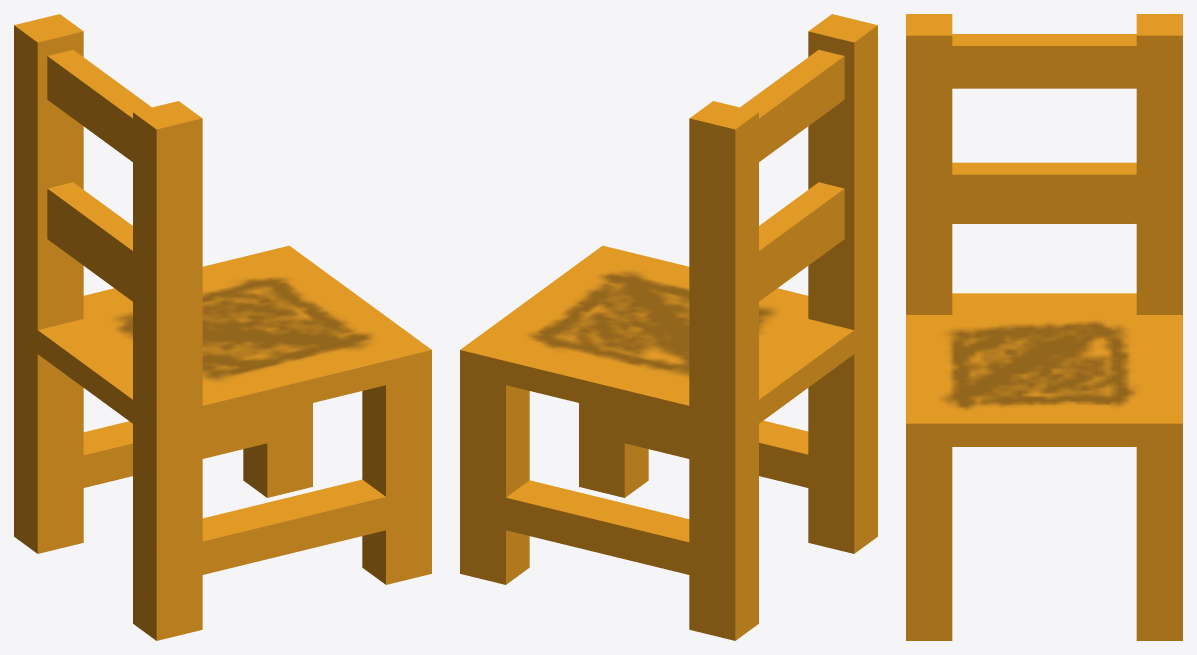
The model's file is Chair.fbx.
3 renders of one model, left to right at view 1: azimuth 30°, elevation 25°; view 2: azimuth 150°, elevation 25°; view 3: azimuth 270°, elevation 25°, orthographic. The views are drawn at different scales.
Parts seen in each view (by area): view 1: Cube; view 2: Cube; view 3: Cube.
Boxes of the visible parts, bbox=[...] form: Cube: bbox=[14, 14, 431, 640]; Cube: bbox=[460, 14, 877, 640]; Cube: bbox=[906, 14, 1182, 640].
Size of the model in its own units: 803 by 1426 by 721.
